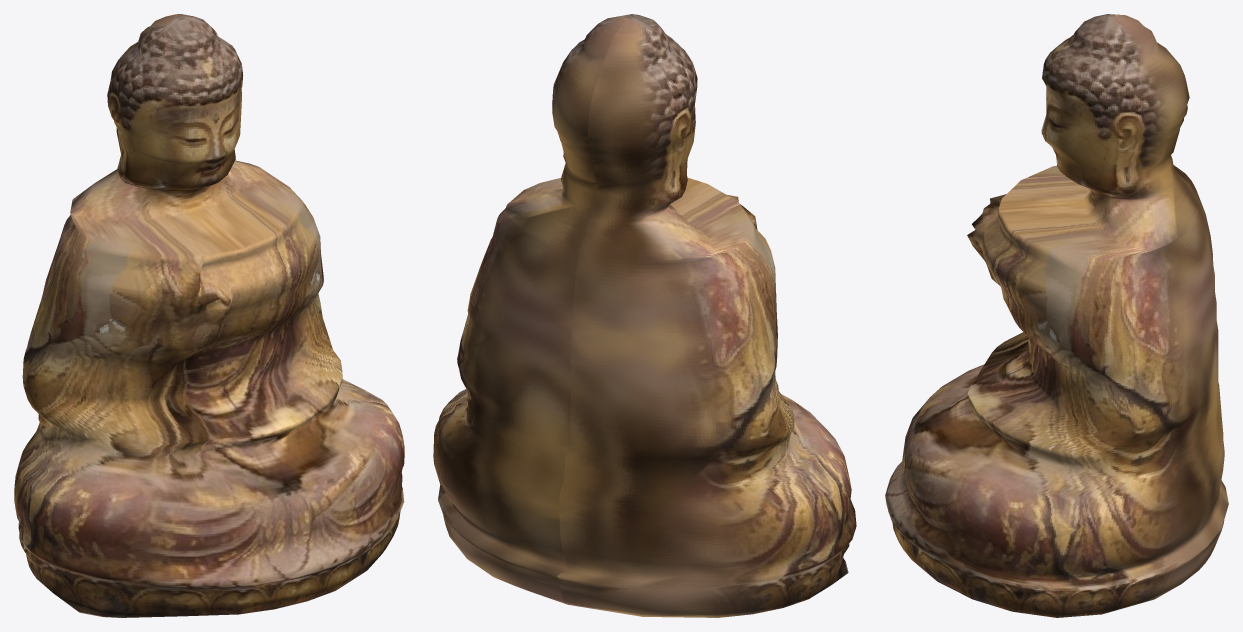
The model's file is seven-7.glb.
The picture shows the model from 3 angles, left to right: view 1: azimuth 30°, elevation 25°; view 2: azimuth 150°, elevation 25°; view 3: azimuth 270°, elevation 25°; orthographic projection. The views are drawn at different scales.
Visible parts, largest first — view 1: seven-7; view 2: seven-7; view 3: seven-7.
Part boxes in pixels (x1=…): seven-7: x1=14, y1=14, x2=404, y2=617; seven-7: x1=433, y1=14, x2=856, y2=617; seven-7: x1=885, y1=14, x2=1228, y2=617.
Size of the model in its own units: 0.7312 by 1 by 0.596.
1 material, 1 textured.
